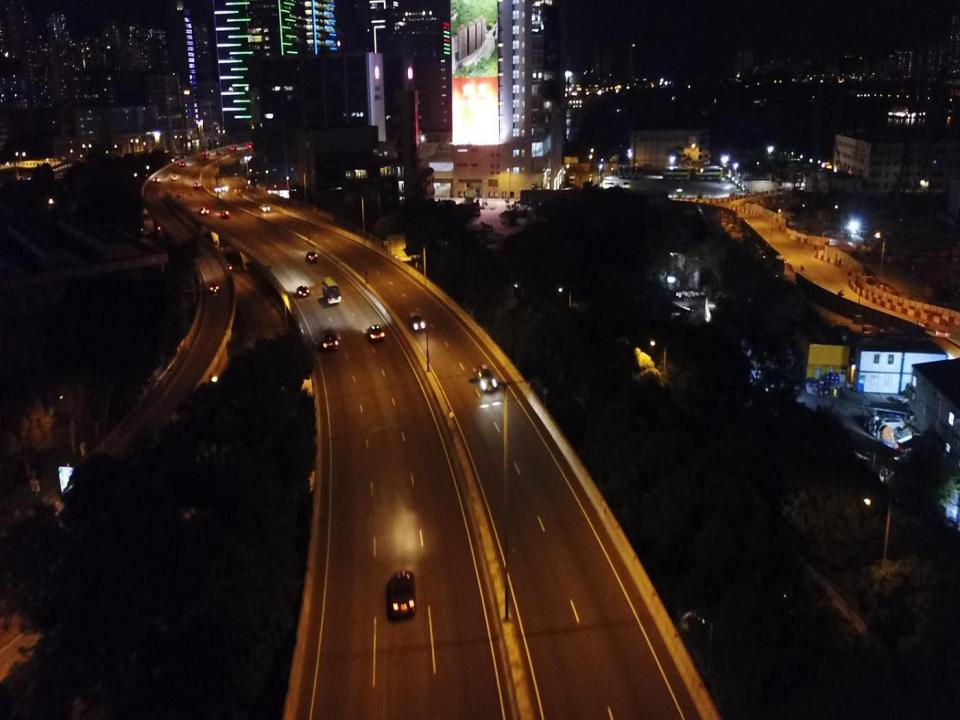bus: (322, 277, 342, 304), (662, 165, 690, 181), (695, 166, 722, 182), (602, 179, 631, 191), (636, 166, 642, 178), (631, 166, 636, 178), (625, 166, 630, 178), (619, 166, 624, 178)
car: (386, 569, 418, 618), (877, 415, 906, 432), (478, 365, 496, 392), (321, 328, 338, 350), (409, 312, 426, 332), (368, 324, 386, 341), (297, 284, 308, 298), (306, 252, 318, 262), (210, 284, 219, 294), (261, 204, 270, 213), (221, 210, 230, 218), (199, 207, 209, 214), (193, 183, 202, 188), (214, 186, 221, 192), (247, 143, 255, 148), (222, 185, 228, 191), (172, 175, 178, 180), (154, 176, 159, 182), (203, 152, 209, 156), (230, 146, 236, 150), (180, 162, 185, 166), (215, 151, 220, 155)
truck: (568, 172, 575, 185)
